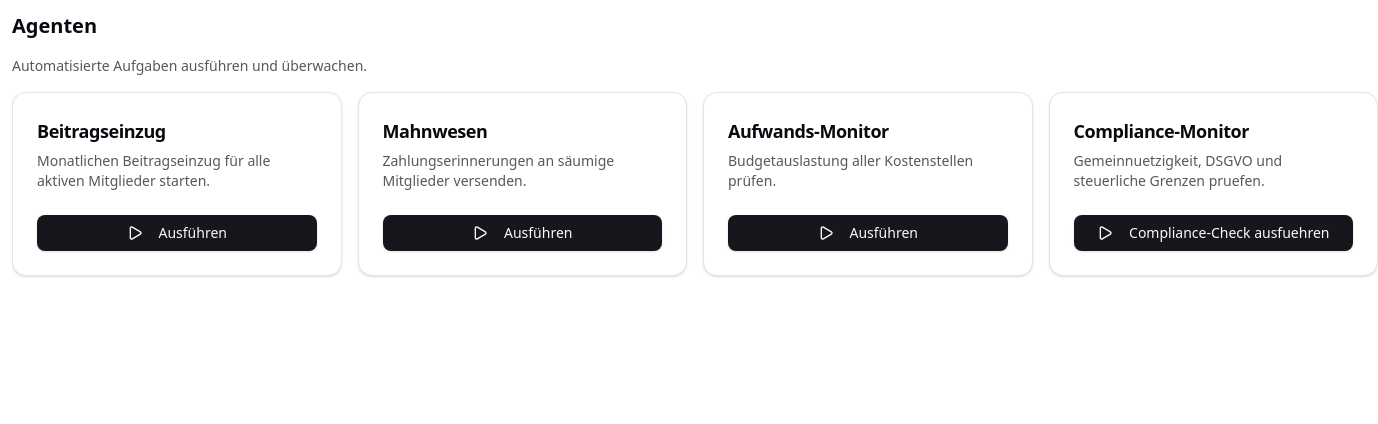
Test: AgentDashboard › handles Mahnwesen execution success and shows result
Step 1. Click the button with test id "run-mahnwesen" → (522, 233), box [382,215,662,251]
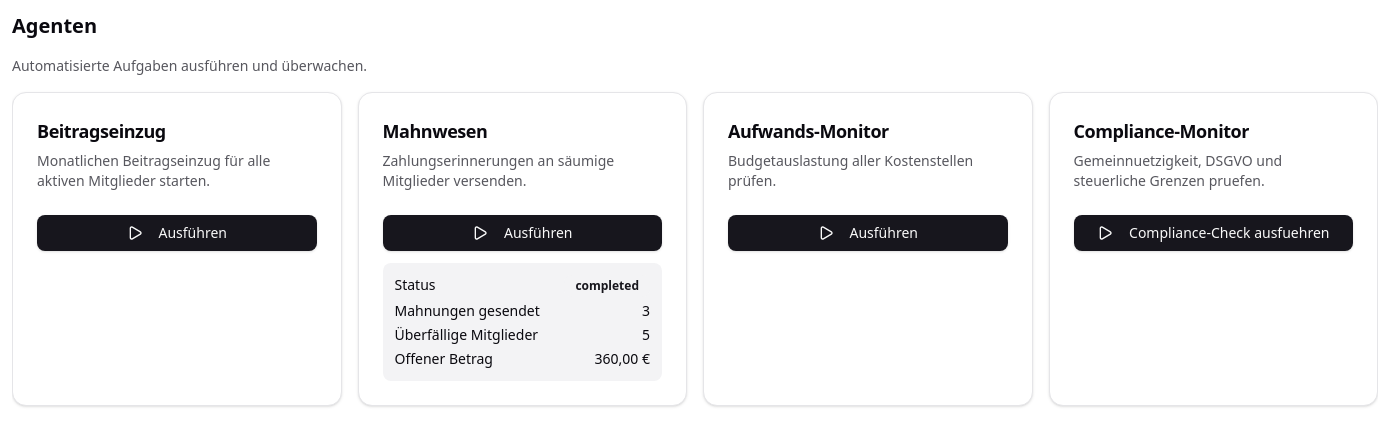
Expected: the text "3" is shown, [642,301,650,321]
Expected: the text "5" is shown, [642,325,650,345]
